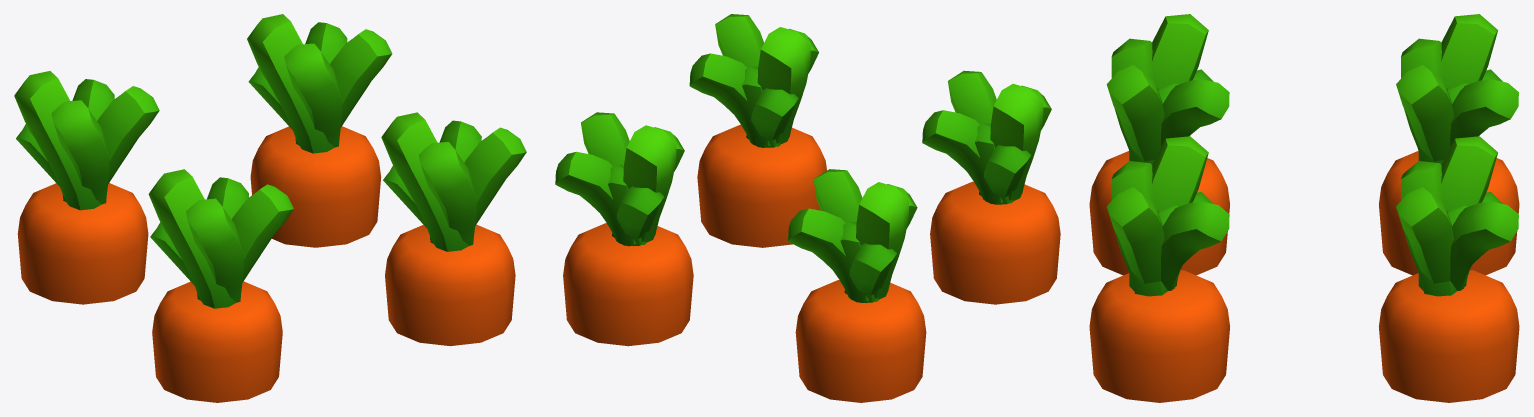
The model's file is Farm_Crop_Carrot_Step_02.glb.
3 renders of one model, left to right at view 1: azimuth 30°, elevation 25°; view 2: azimuth 150°, elevation 25°; view 3: azimuth 270°, elevation 25°, orthographic. The views are drawn at different scales.
Visible parts, largest first — view 1: Farm_Crop_Carrot_Step_02; view 2: Farm_Crop_Carrot_Step_02; view 3: Farm_Crop_Carrot_Step_02.
Boxes of the visible parts, box(x1,y1,x2,y2) form: Farm_Crop_Carrot_Step_02: box(14, 14, 526, 402); Farm_Crop_Carrot_Step_02: box(555, 14, 1060, 402); Farm_Crop_Carrot_Step_02: box(1089, 14, 1519, 402).
Size of the model in its own units: 1.5 by 0.8333 by 1.49.
Materials: 1 (1 with a texture image).
